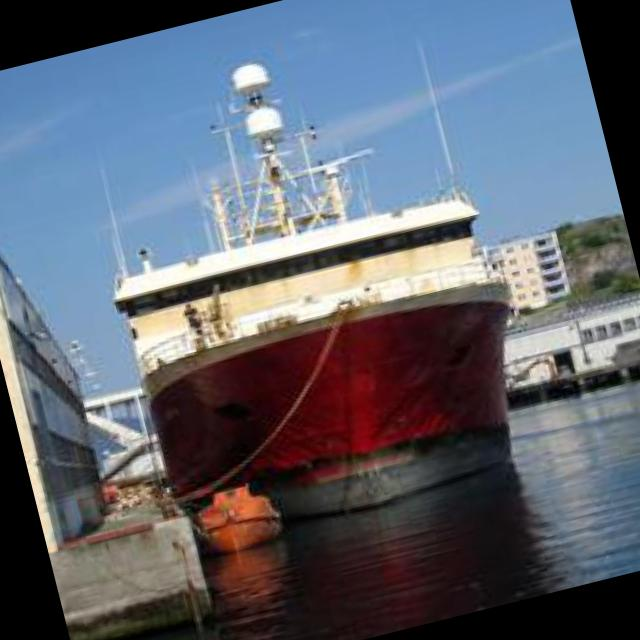boat: (80, 172, 552, 551)
